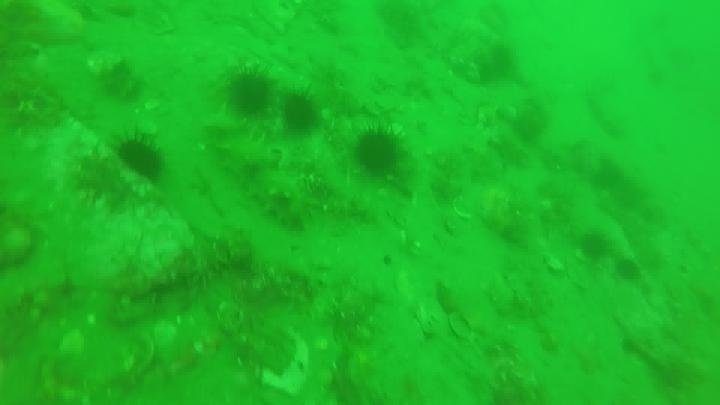echinus: (352, 126, 404, 178), (225, 67, 275, 119), (115, 135, 167, 184), (279, 90, 321, 136), (577, 229, 612, 262), (613, 256, 643, 283)
holothurian: (209, 119, 314, 230)
